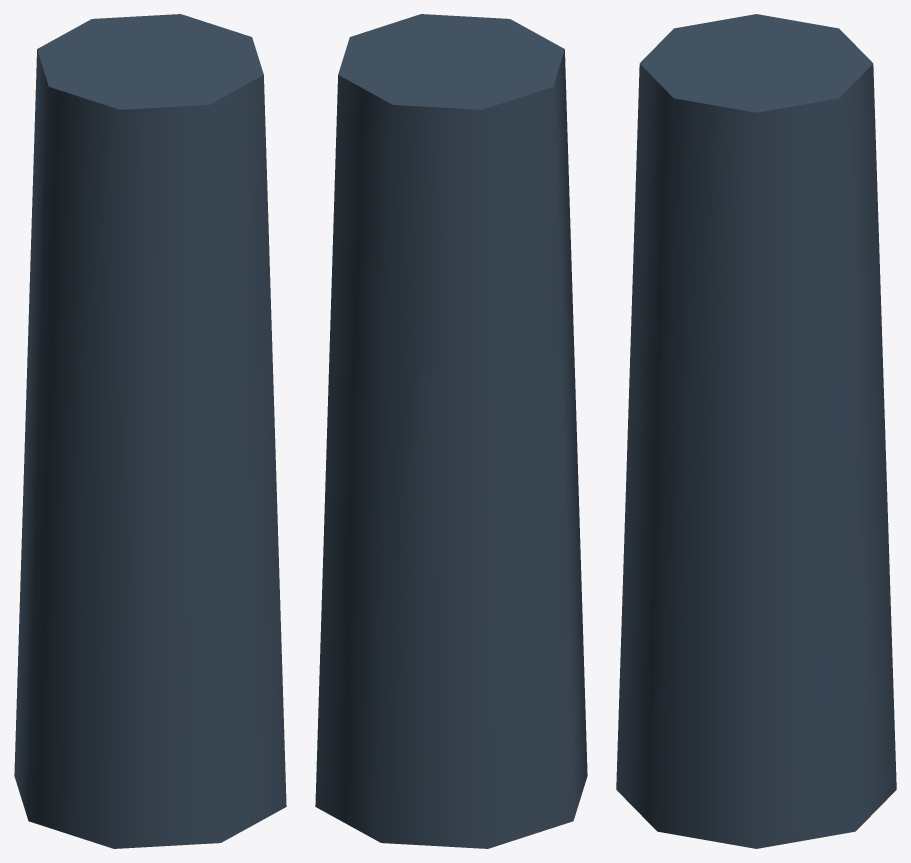
The model's file is frozen_pillar_b.glb.
The picture shows the model from 3 angles, left to right: view 1: azimuth 30°, elevation 25°; view 2: azimuth 150°, elevation 25°; view 3: azimuth 270°, elevation 25°; orthographic projection.
Size of the model in its own units: 0.84 by 2.4 by 0.84.
